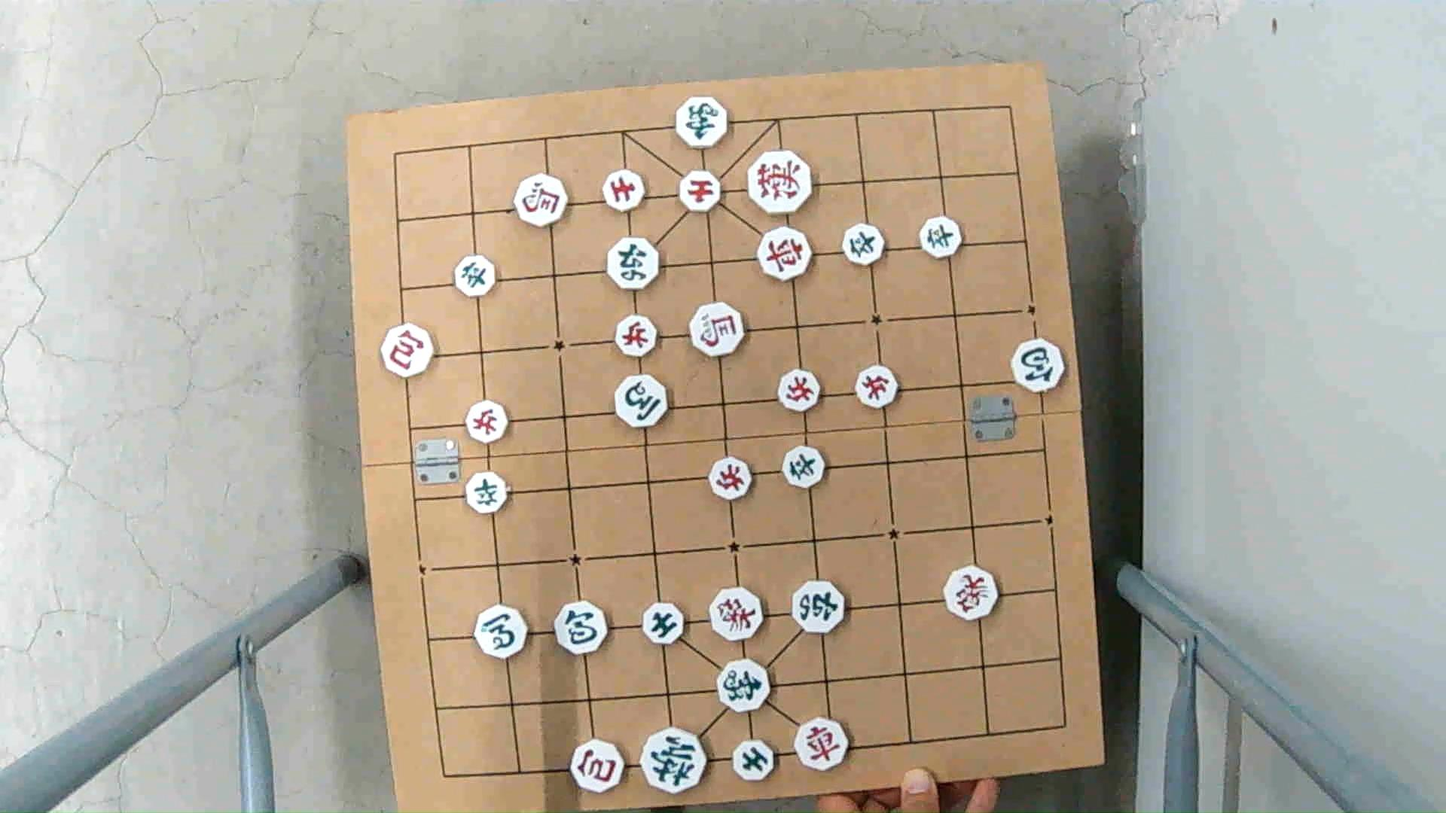cha_green: (790, 583, 845, 632), (605, 239, 660, 286)
cha_red: (792, 720, 849, 770), (758, 227, 813, 278)
jol_green: (917, 215, 962, 260), (782, 445, 824, 492), (844, 224, 886, 269), (464, 473, 510, 513), (455, 257, 499, 294)
jol_red: (706, 458, 755, 497), (853, 366, 898, 406), (777, 373, 823, 412), (616, 319, 662, 358), (465, 402, 510, 441)
ma_green: (614, 374, 670, 427), (471, 607, 529, 656)
ma_red: (685, 300, 746, 359), (514, 172, 570, 228)
po_green: (551, 601, 612, 653), (1008, 341, 1065, 391)
po_red: (380, 326, 435, 376), (570, 742, 627, 790)
sa_green: (732, 741, 779, 780), (640, 606, 686, 644)
sa_red: (602, 170, 648, 211), (678, 171, 725, 211)
sang_green: (715, 661, 773, 710), (676, 97, 730, 145)
sang_red: (941, 568, 999, 617), (708, 591, 764, 641)
wang_green: (637, 730, 708, 791)
wang_red: (750, 154, 816, 213)
